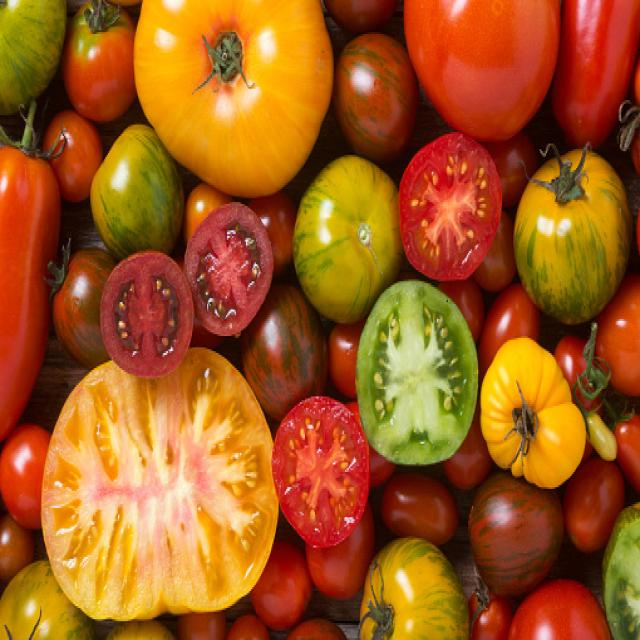Tomato: (388, 124, 502, 280), (107, 232, 220, 380), (276, 396, 372, 552), (186, 184, 281, 328)
